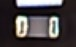COMP: (10, 11, 65, 43)
GAP: (16, 1, 59, 28)
